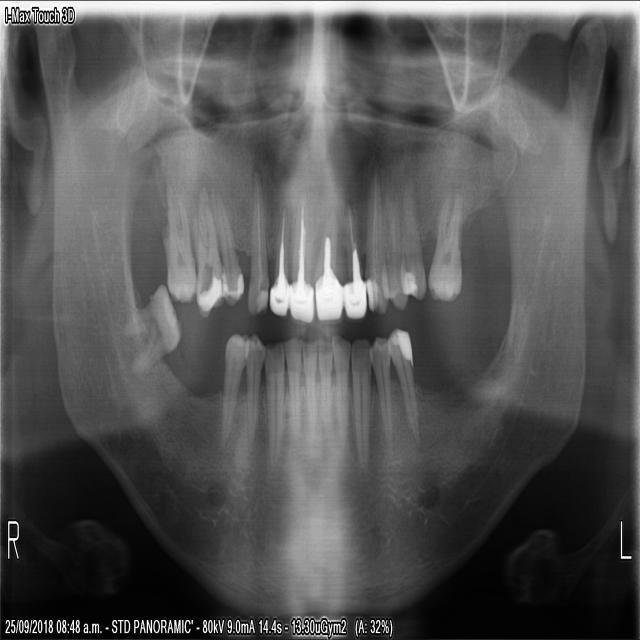LCD: (348, 332, 373, 486)
LCU: (363, 143, 389, 319)
LID: (328, 329, 350, 480), (315, 331, 333, 475)
LIU: (339, 135, 367, 324), (314, 150, 343, 325)
LMU: (425, 179, 464, 306)
LPMD: (384, 322, 423, 458), (365, 328, 394, 457)
LPMU: (378, 139, 412, 315), (395, 129, 427, 304)
RCD: (259, 337, 285, 476)
RCU: (244, 161, 269, 317)
RID: (280, 329, 302, 476), (299, 334, 316, 465)
RIU: (286, 160, 315, 325), (266, 149, 291, 319)
RMD: (120, 275, 182, 379)
RMU: (187, 178, 229, 323), (161, 168, 198, 307)
RPMD: (214, 329, 248, 456), (239, 327, 266, 460)
RPMU: (209, 186, 245, 310)
